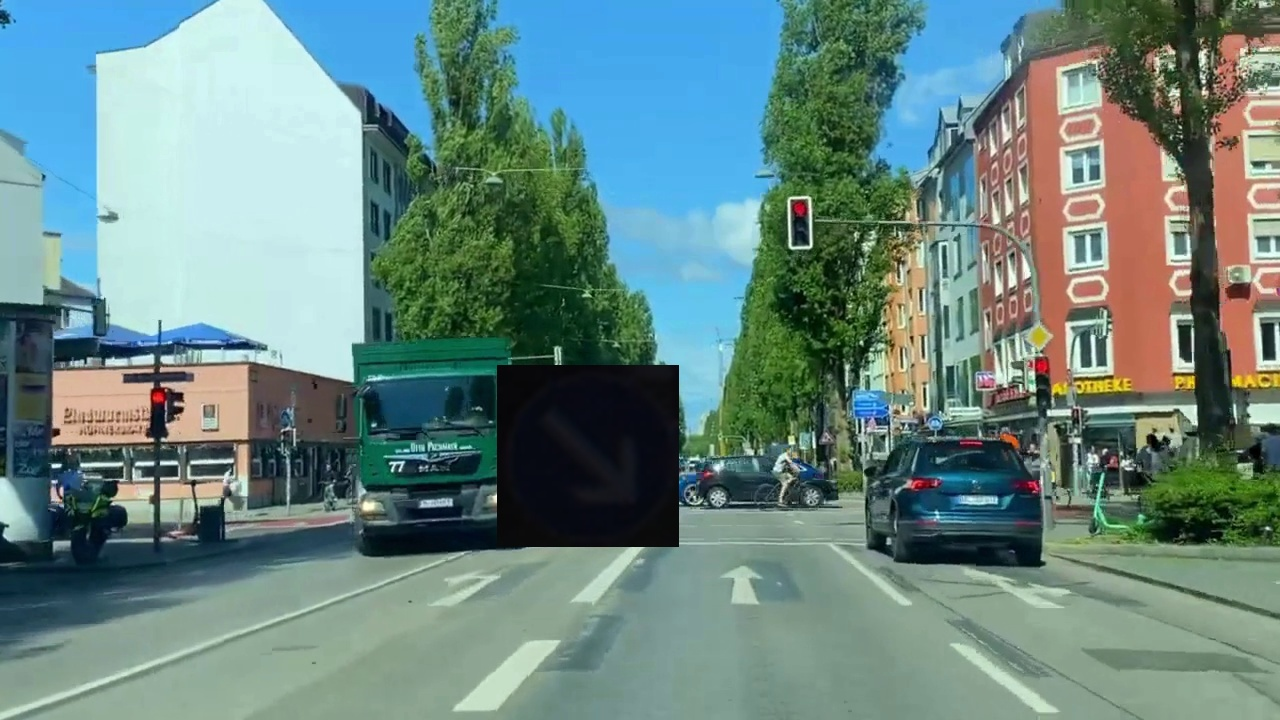Keep right: (497, 365, 679, 547)
